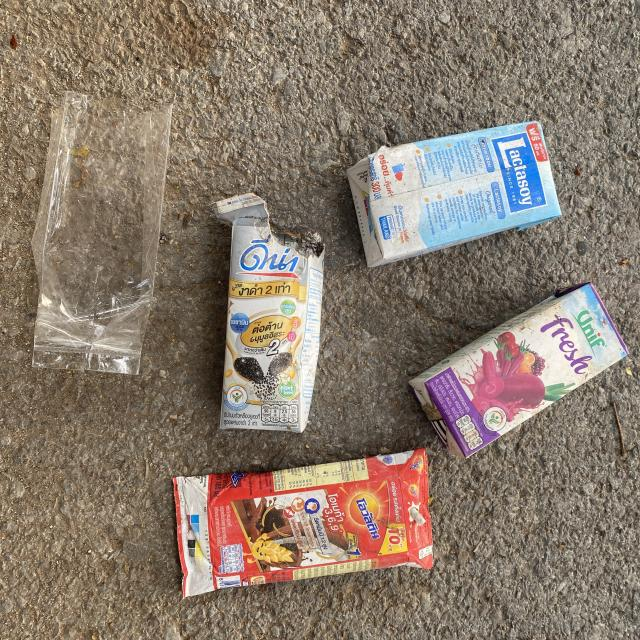Single-layer Plastic: (31, 91, 171, 374)
